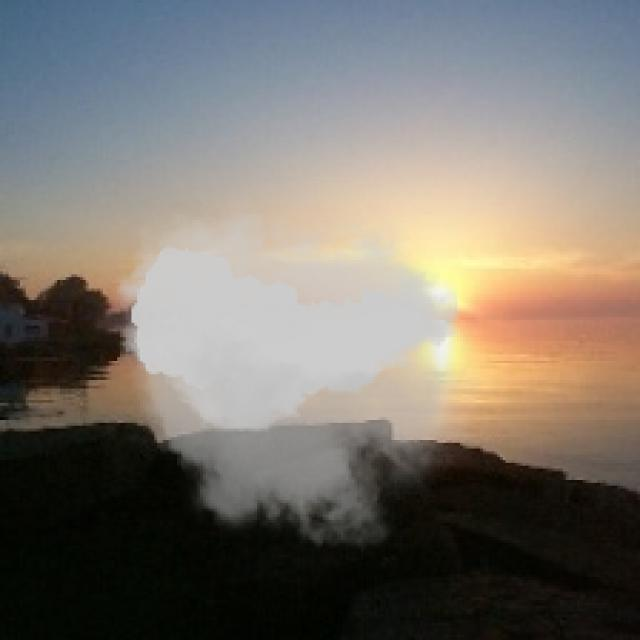smoke: (106, 183, 483, 568)
